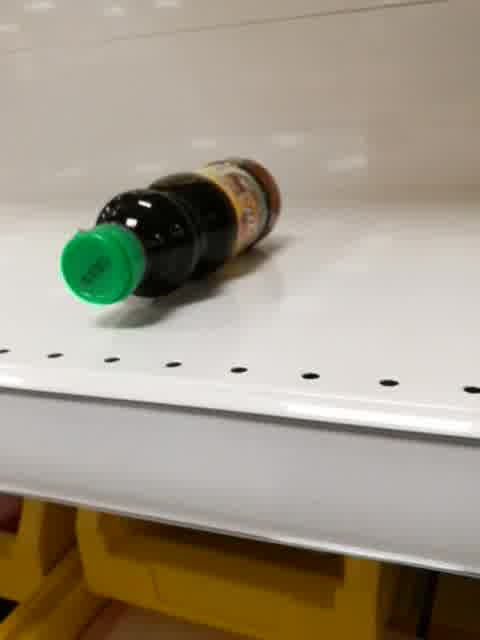cookingoil: (59, 154, 286, 308)
